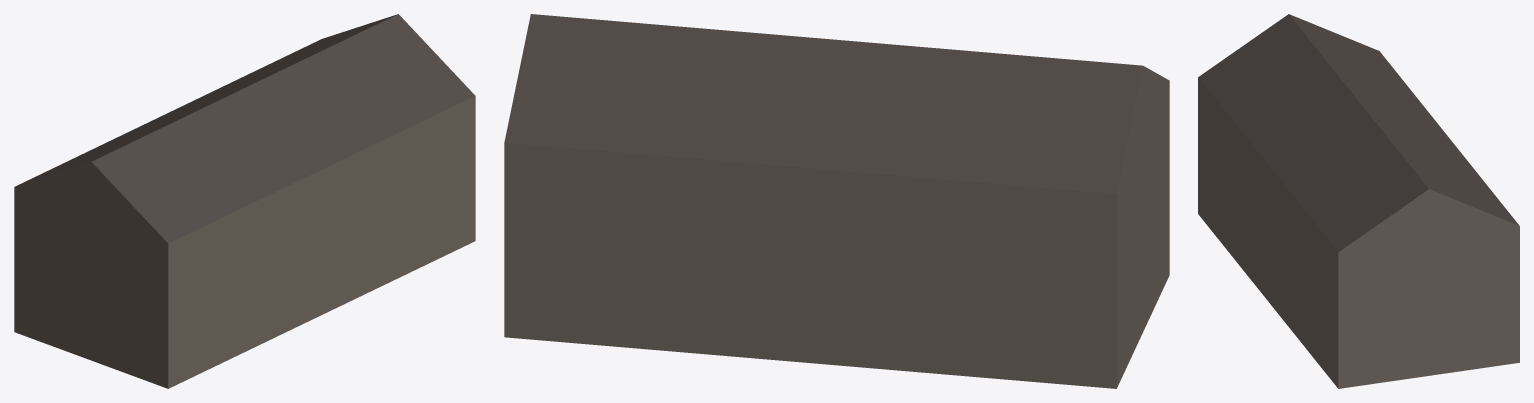
The picture shows the model from 3 angles, left to right: view 1: azimuth 30°, elevation 25°; view 2: azimuth 150°, elevation 25°; view 3: azimuth 270°, elevation 25°; orthographic projection. The views are drawn at different scales.
Parts seen in each view (by area): view 1: HP-w693448182; view 2: HP-w693448182; view 3: HP-w693448182.
Boxes of the visible parts, x1,y1,x2,y2 form: HP-w693448182: (14,14,475,388); HP-w693448182: (504,14,1169,388); HP-w693448182: (1198,14,1519,388).
Size of the model in its own units: 28.45 by 12.31 by 19.23.
